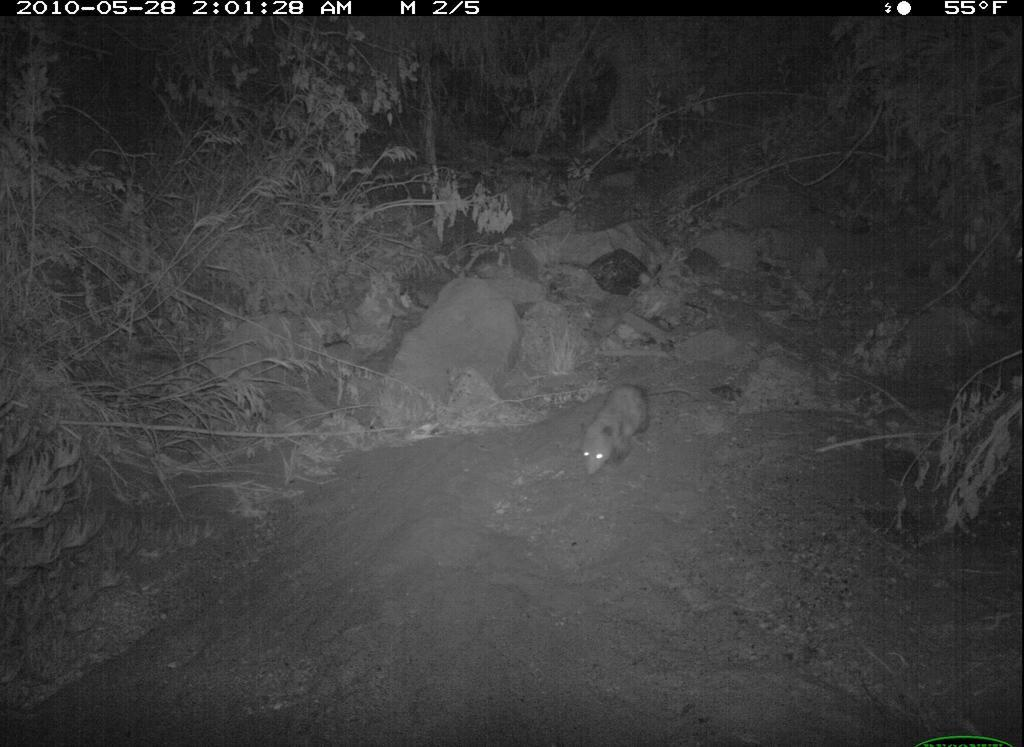opossum: (573, 377, 665, 493)
